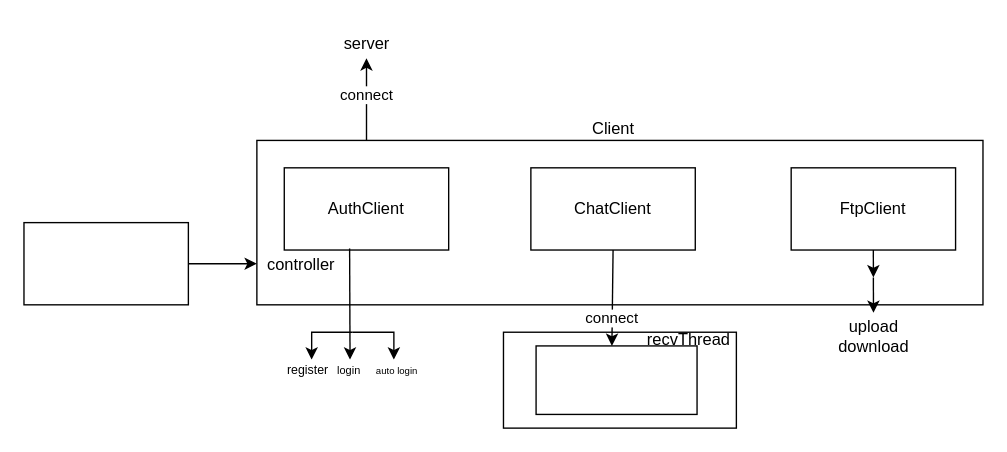
Image size: 1007x452. Some labels were removed from this diagram. Here are the shapes that lost their labels. From the top down, the centre of each, then its label:
(x=105, y=263): FTXUI
(x=616, y=379): EventLoop
